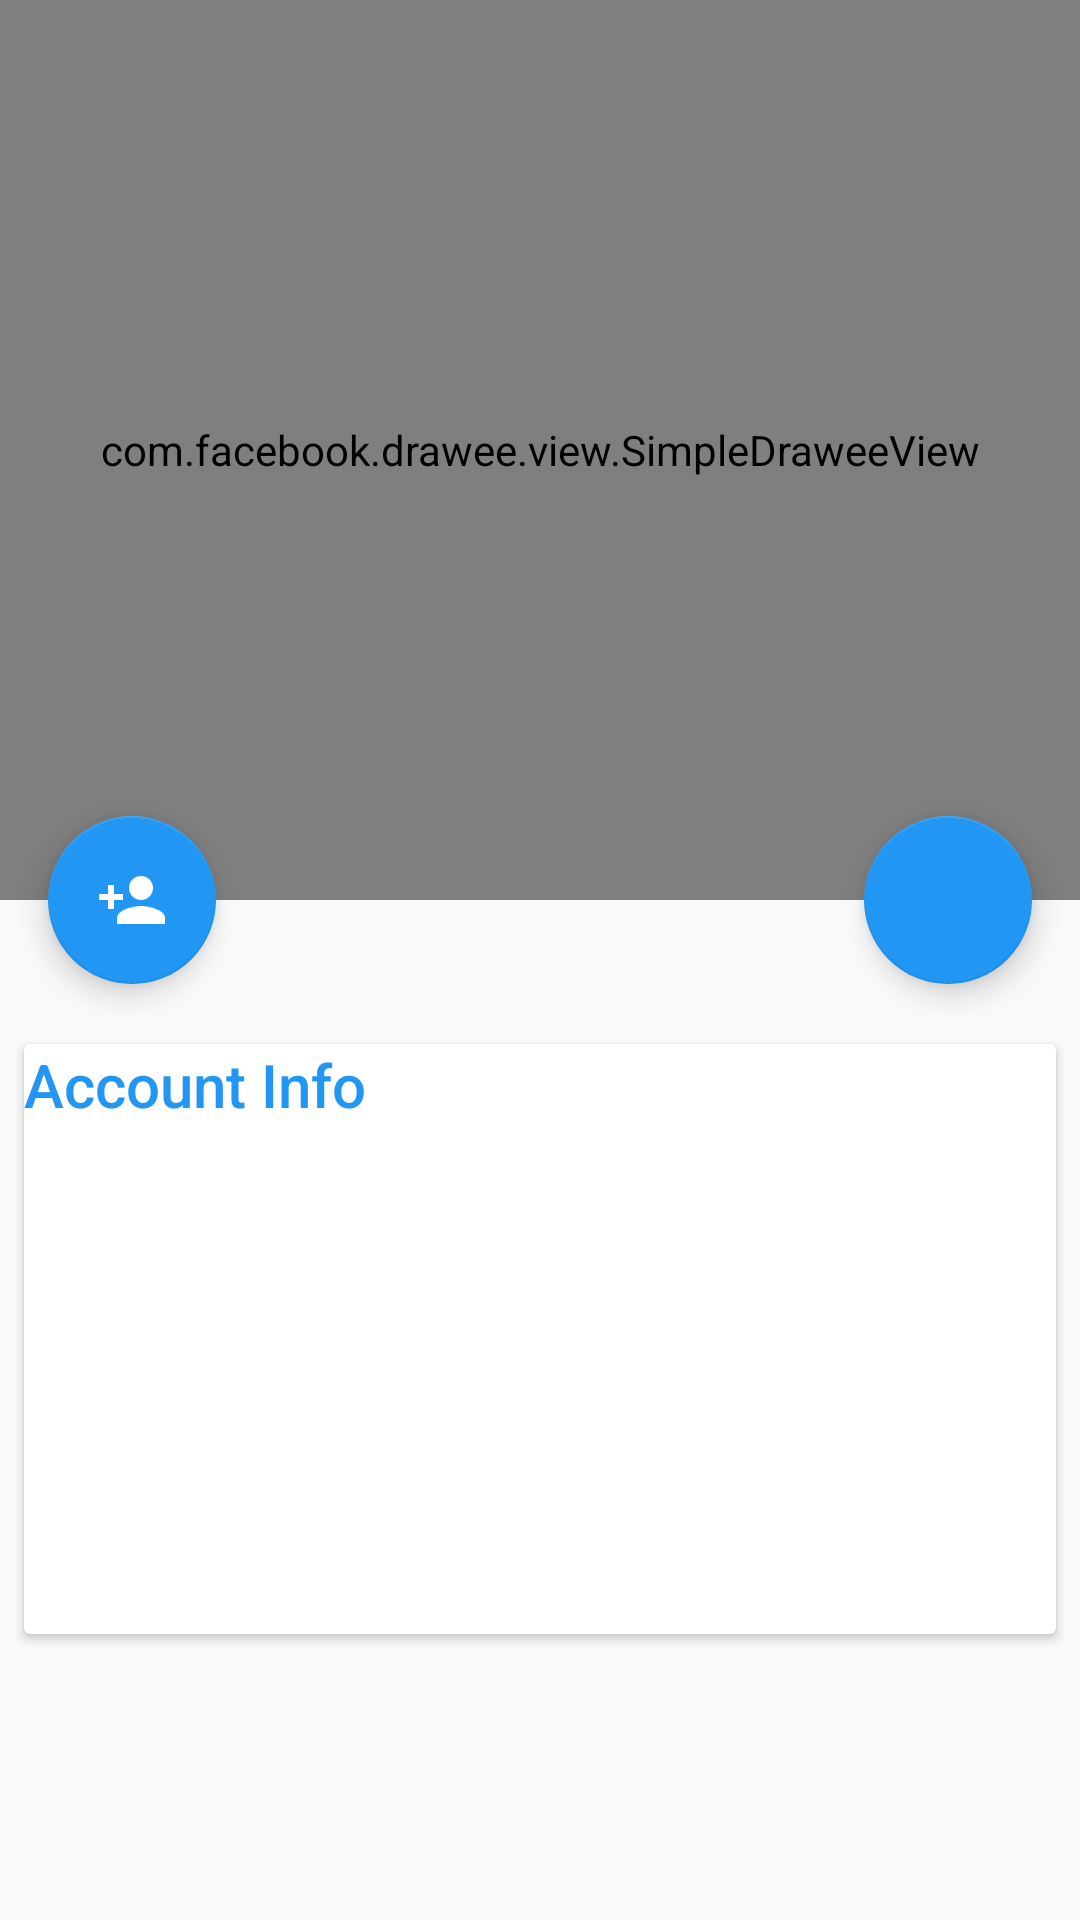

Icon click points for this 1080×1920 phone screenshot, format point (x, y):
add friend: point (132, 900)
